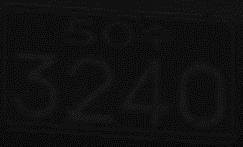0: (177, 61, 224, 128), (102, 20, 134, 49)
2: (68, 54, 112, 124)
3: (12, 52, 56, 117)
4: (125, 55, 171, 125)
5: (67, 17, 97, 45)
수: (141, 18, 171, 48)
